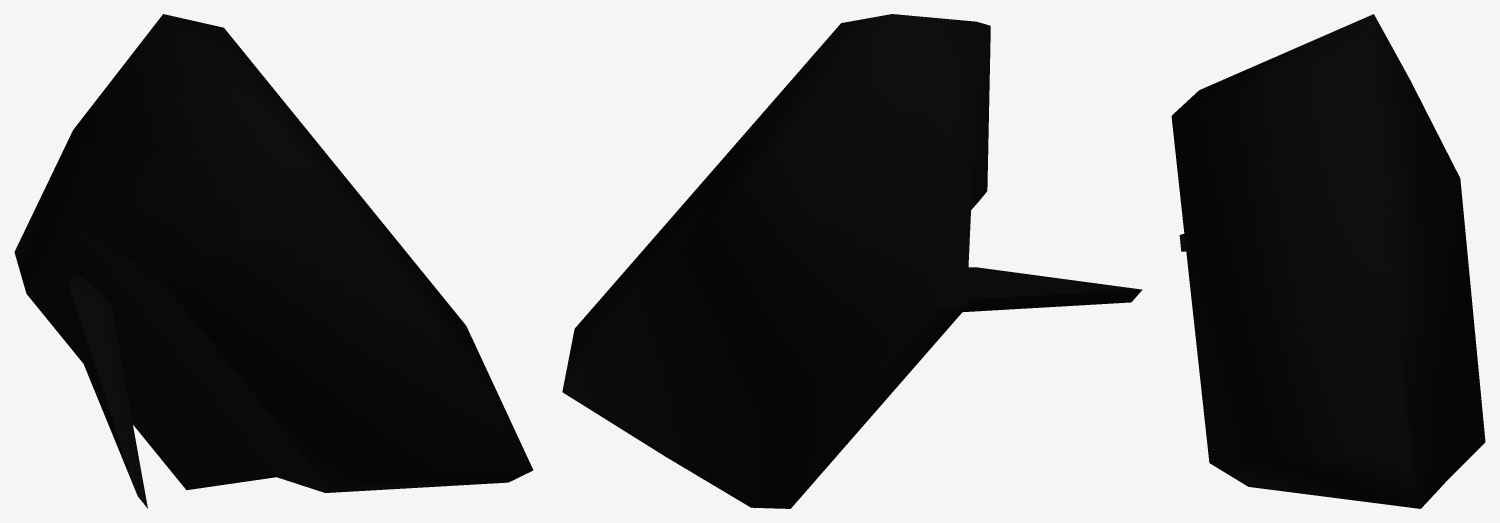
File: shipScrapPart_10.glb
3 views of the same model, side by side, from view 1: azimuth 30°, elevation 25°; view 2: azimuth 150°, elevation 25°; view 3: azimuth 270°, elevation 25° (orthographic). The views are drawn at different scales.
Visible parts, largest first — view 1: shipScrapPart_10; view 2: shipScrapPart_10; view 3: shipScrapPart_10.
Part boxes in pixels (left/top/right/bottom): shipScrapPart_10: left=14, top=14, right=533, bottom=508; shipScrapPart_10: left=562, top=14, right=1142, bottom=508; shipScrapPart_10: left=1171, top=14, right=1485, bottom=508.
Size of the model in its own units: 0.6493 by 0.679 by 0.4706.
Materials: 1 (1 with a texture image).
